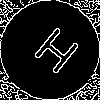H: (25, 25, 82, 84)
